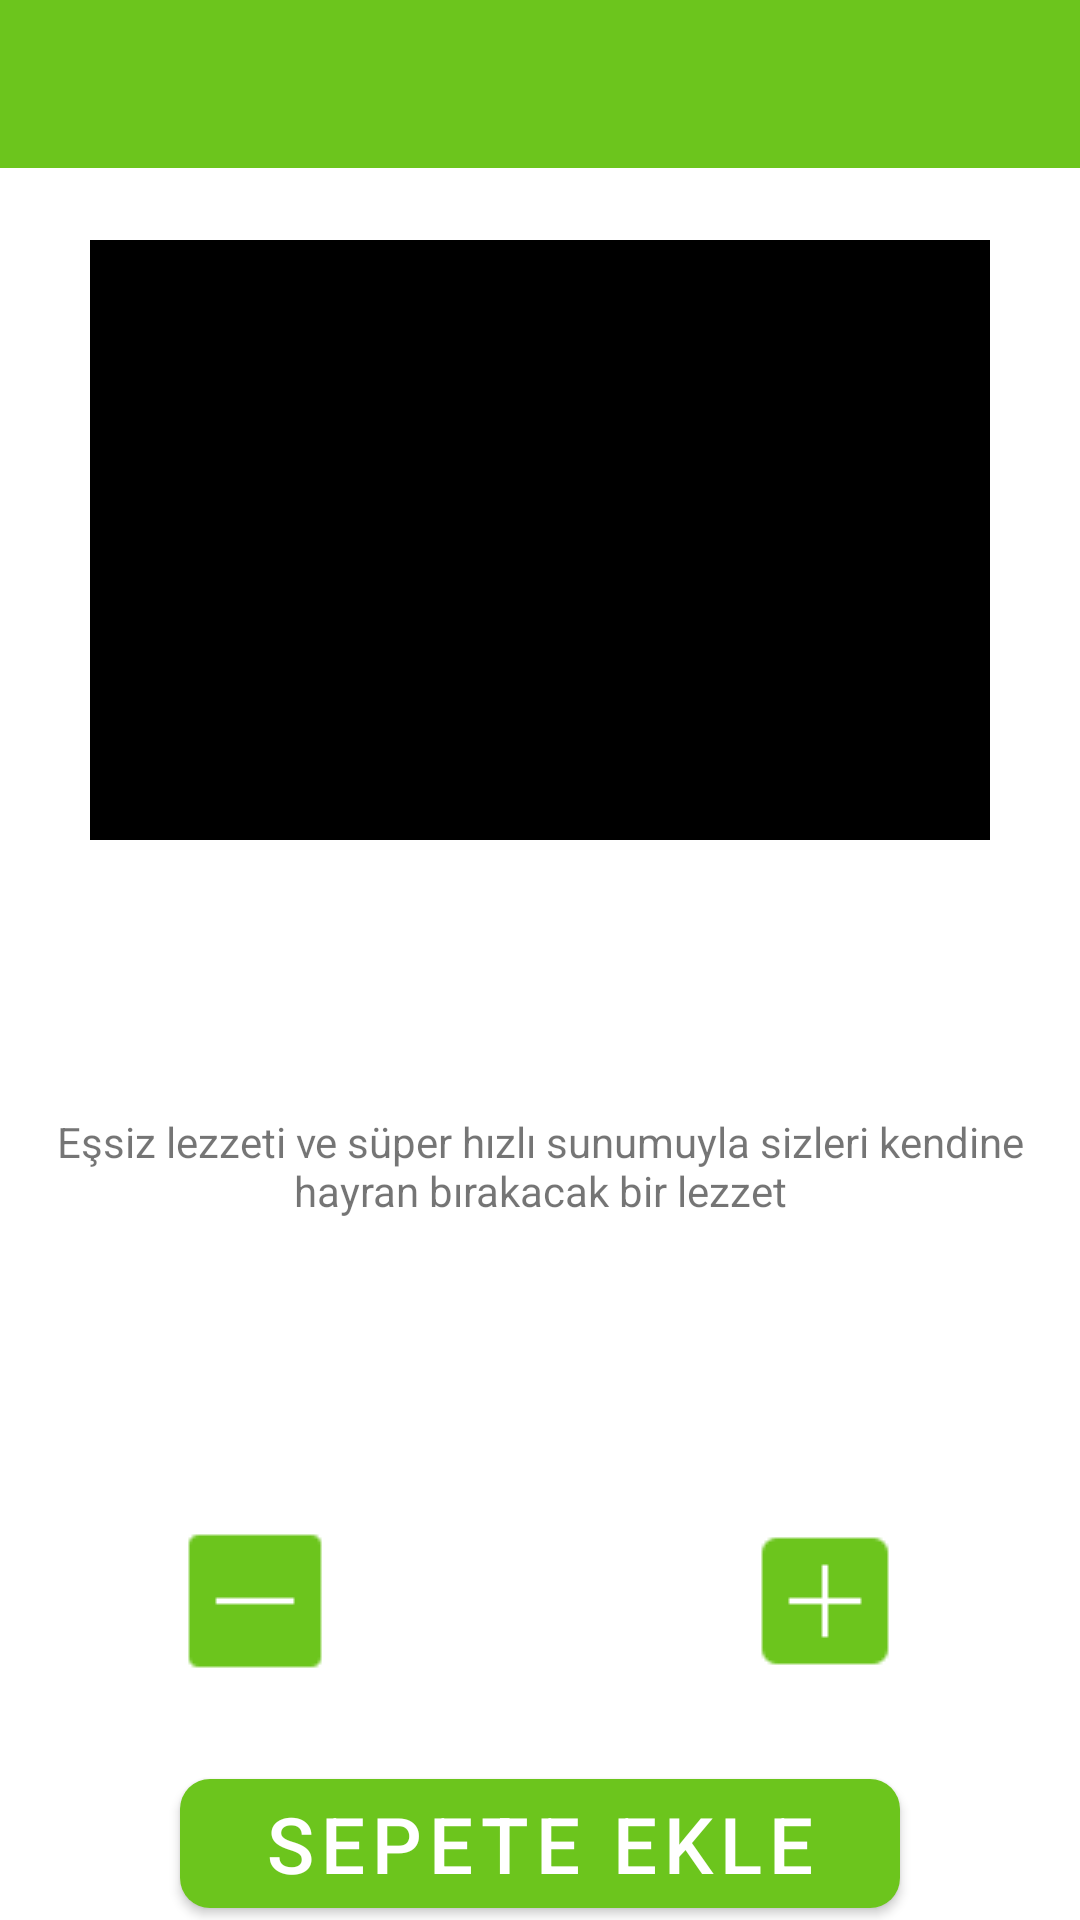

Locate icon controls on the screen. Image size 1080×1920, boxes as Rect(x1, y1, x2, y2).
minus: Rect(188, 1534, 322, 1668)
plus: Rect(761, 1537, 889, 1665)
